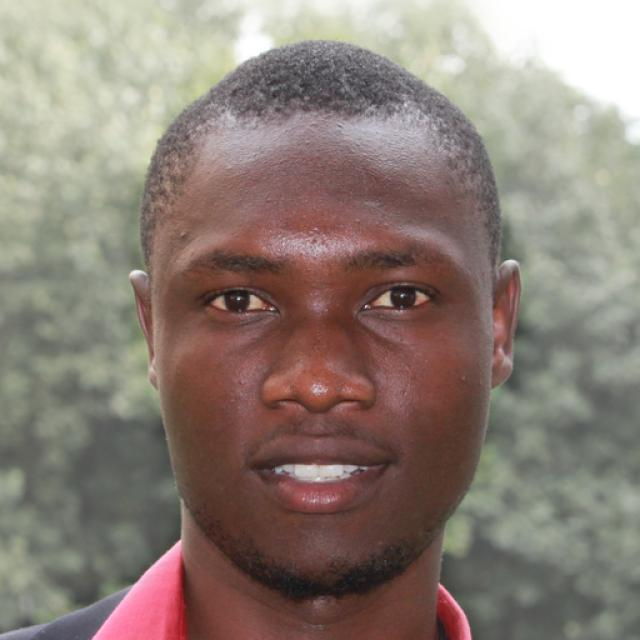Acne: (313, 300, 338, 323), (172, 227, 190, 243), (471, 377, 489, 393), (233, 375, 250, 391), (455, 372, 470, 386)
